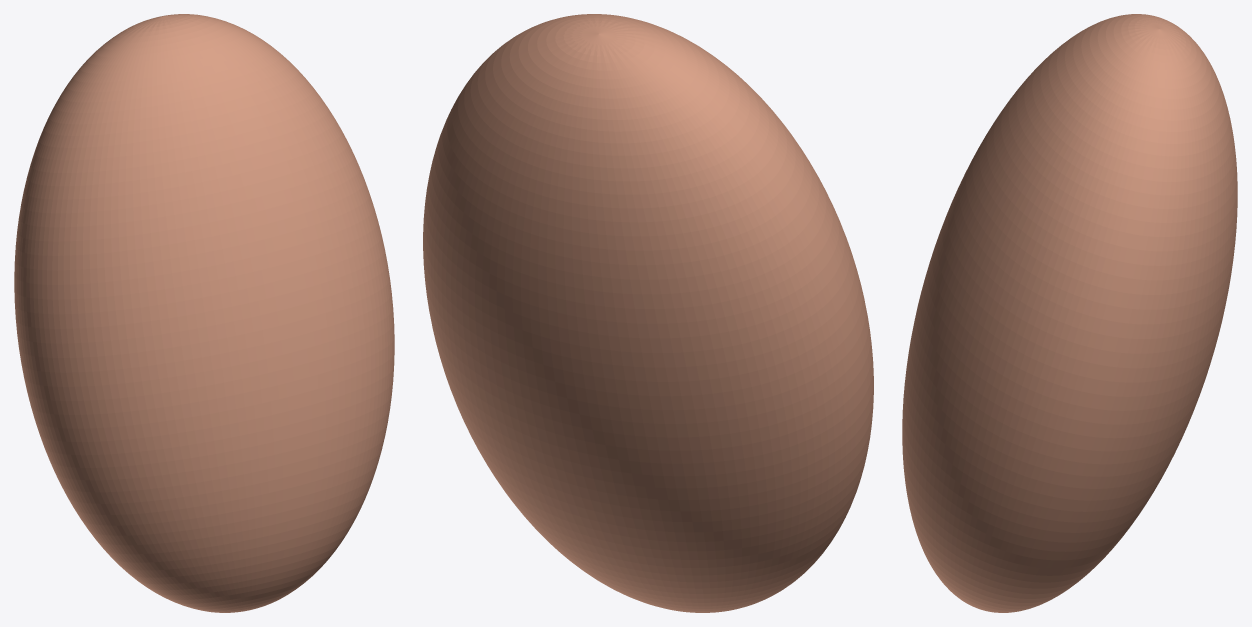
3 views of the same model, side by side, from view 1: azimuth 30°, elevation 25°; view 2: azimuth 150°, elevation 25°; view 3: azimuth 270°, elevation 25° (orthographic). The views are drawn at different scales.
Parts seen in each view (by area): view 1: No_Nose; view 2: No_Nose; view 3: No_Nose.
Boxes of the visible parts, <box> form: No_Nose: <box>14,14,394,612</box>; No_Nose: <box>423,14,873,612</box>; No_Nose: <box>902,14,1237,612</box>.
Size of the model in its own units: 0.1156 by 0.1708 by 0.0908.
